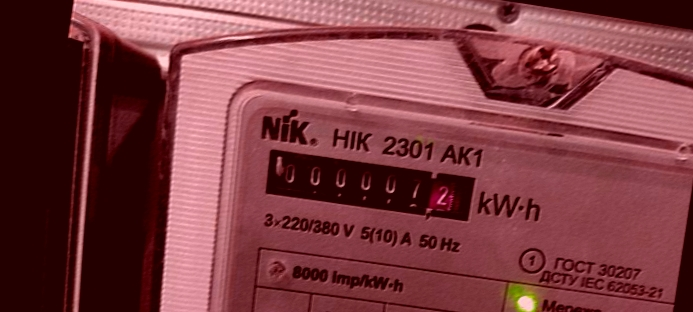0: (281, 160, 298, 186), (358, 169, 375, 194), (333, 166, 349, 191), (307, 164, 323, 188), (383, 172, 399, 196)
2: (434, 184, 451, 208)
7: (408, 176, 424, 201)
screen: (252, 135, 487, 235)
